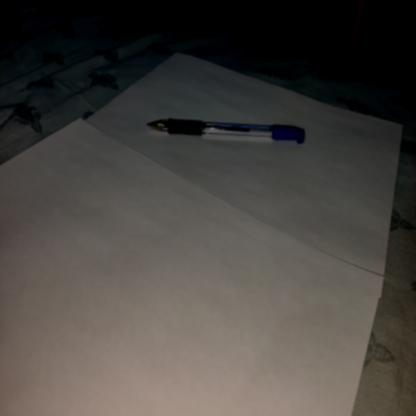pen: (146, 108, 310, 153)
